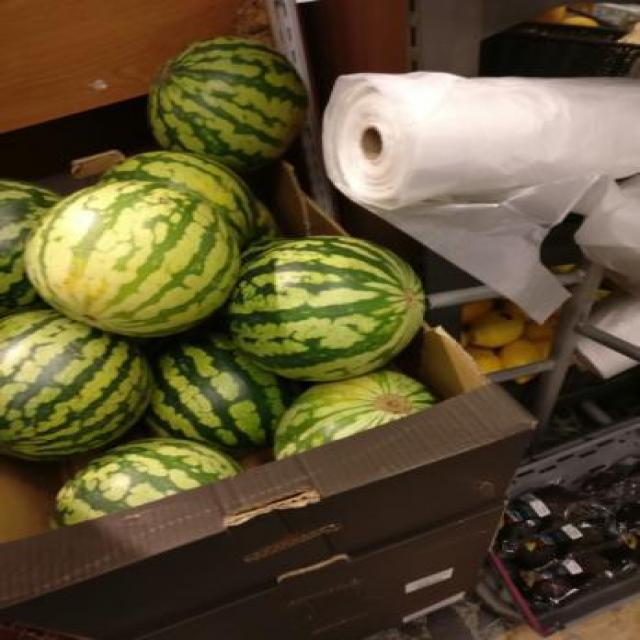Watermelon: (28, 179, 234, 338), (230, 237, 427, 382), (3, 310, 152, 456), (140, 39, 309, 167), (149, 340, 294, 450), (278, 372, 438, 462)
